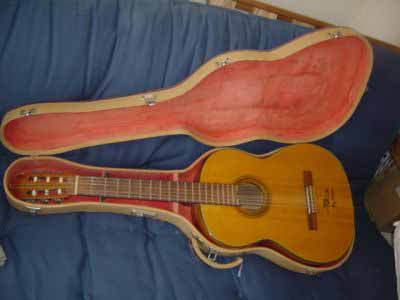guitar: (13, 143, 355, 266)
